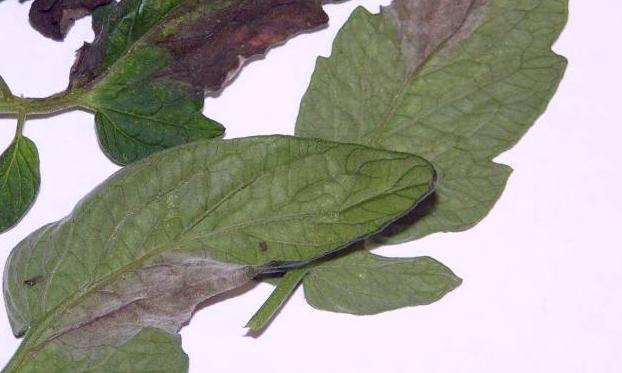Tomato leaf late blight: (0, 125, 432, 373), (256, 0, 596, 308), (76, 0, 451, 156)
